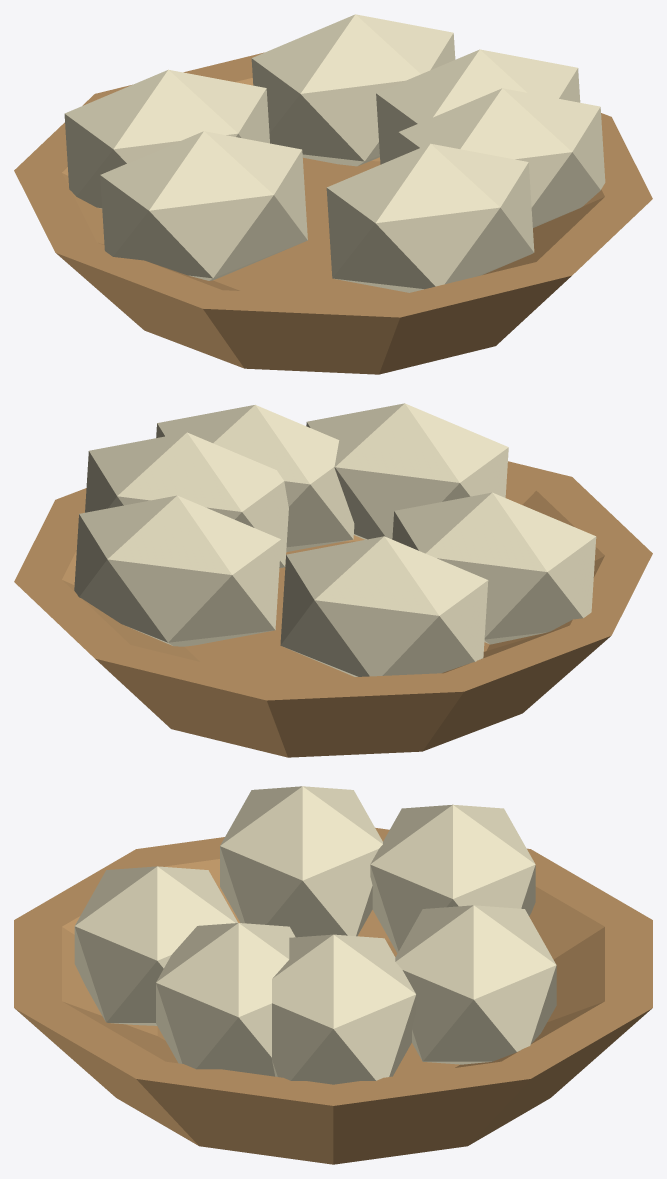
File: CC_MealSimple.fbx
The picture shows the model from 3 angles, top to bottom: view 1: azimuth 30°, elevation 25°; view 2: azimuth 150°, elevation 25°; view 3: azimuth 270°, elevation 25°; orthographic projection. The views are drawn at different scales.
Visible parts, largest first — view 1: Serving dish, Food.002, Food.004, Food.003, Food.001, Food.005, Food; view 2: Serving dish, Food.003, Food.001, Food.004, Food.002, Food, Food.005; view 3: Serving dish, Food.003, Food.004, Food, Food.005, Food.001, Food.002.
Part boxes in pixels (box(x1,y1,x2,y2)): Serving dish: box(14, 52, 652, 374); Food.002: box(326, 143, 534, 292); Food.004: box(100, 131, 307, 280); Food.003: box(251, 14, 455, 166); Food.001: box(64, 69, 269, 208); Food.005: box(398, 88, 605, 227); Food: box(376, 49, 580, 164); Serving dish: box(14, 461, 652, 757); Food.003: box(74, 495, 281, 646); Food.001: box(280, 536, 488, 676); Food.004: box(392, 492, 596, 644); Food.002: box(306, 403, 508, 539); Food: box(85, 432, 288, 568); Food.005: box(156, 405, 354, 551); Serving dish: box(14, 827, 652, 1164); Food.003: box(395, 905, 556, 1064); Food.004: box(220, 786, 382, 937); Food: box(271, 934, 416, 1084); Food.005: box(156, 923, 295, 1076); Food.001: box(370, 804, 535, 953); Food.002: box(74, 866, 237, 1025).
Bounding box in the file's own units: 0.76 × 0.26 × 0.7228.
